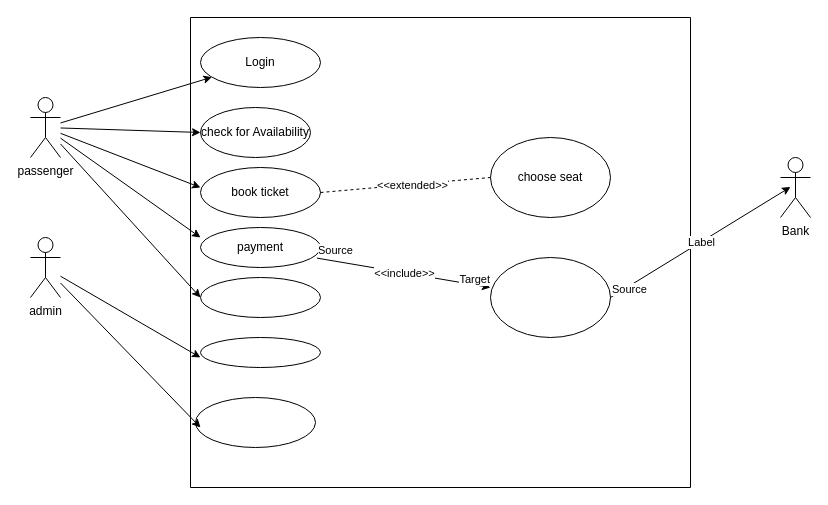
Image size: 828x505. Some labels were removed from this diagram. Each missing label, with the box of its shape:
cancel ticket: (200, 276, 320, 318)
check for flight: (194, 396, 316, 448)
flight schedule: (200, 336, 320, 368)
Validate card details: (490, 256, 610, 338)
